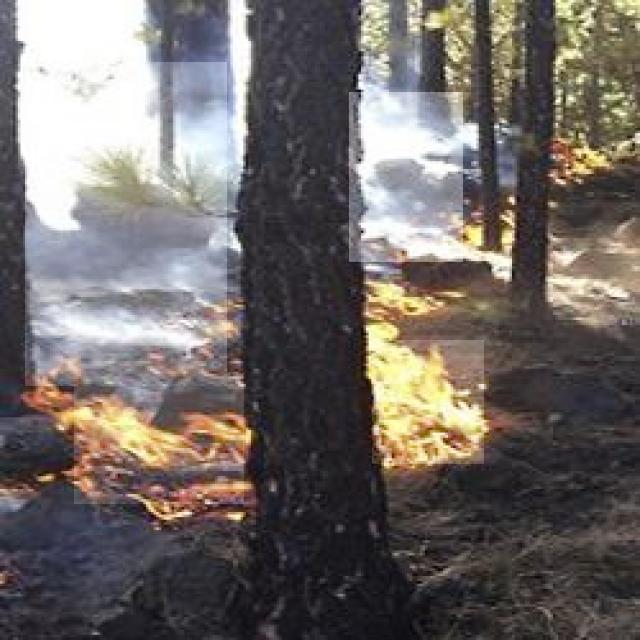Fire: (74, 372, 244, 504), (372, 340, 484, 464)
Smoke: (26, 62, 228, 386), (349, 92, 463, 262)
